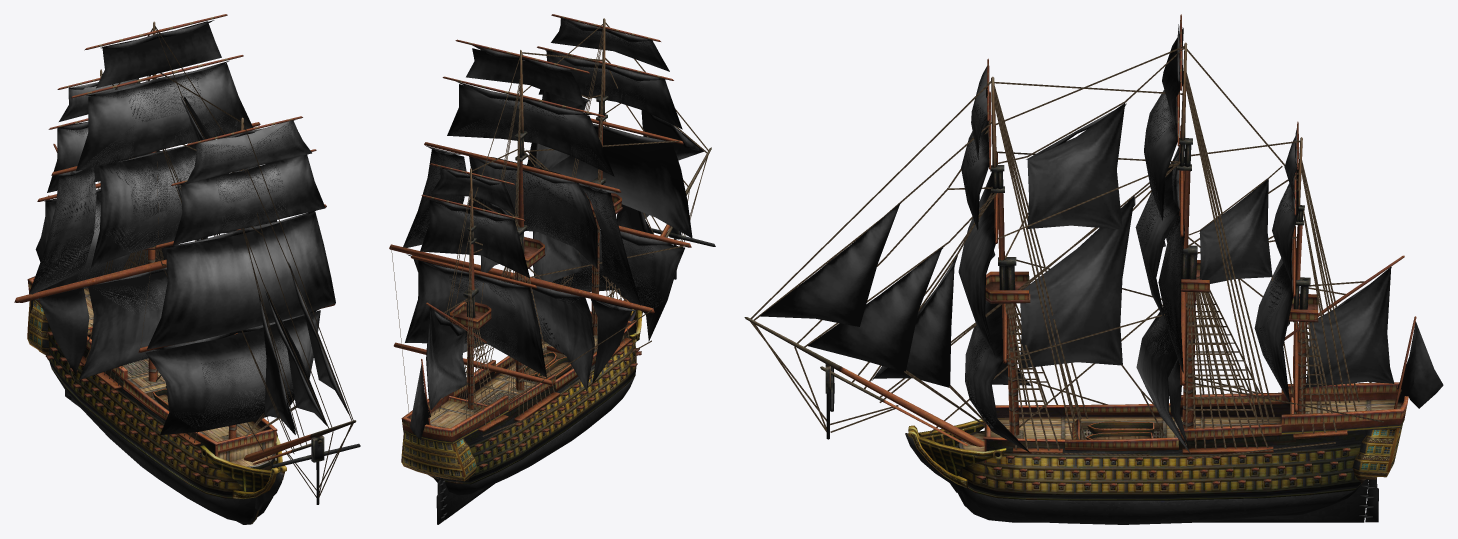
Rendered from T_Ship_12.fbx.
3 renders of one model, left to right at view 1: azimuth 30°, elevation 25°; view 2: azimuth 150°, elevation 25°; view 3: azimuth 270°, elevation 25°, orthographic. The views are drawn at different scales.
Parts seen in each view (by area): view 1: T_Ship_p1, T_Ship_12, T_Ship_12_p2, T_Ship_p1_off, T_Ship_12_p3, T_Ship_12_p4; view 2: T_Ship_p1, T_Ship_12, T_Ship_12_p2, T_Ship_p1_off, T_Ship_12_p3, T_Ship_12_p4; view 3: T_Ship_p1, T_Ship_12, T_Ship_12_p2, T_Ship_12_p3, T_Ship_12_p4, T_Ship_p1_off.
Part boxes in pixels (box(x1,y1,x2,y2)): T_Ship_p1: box(29, 21, 348, 434); T_Ship_12: box(14, 14, 360, 504); T_Ship_12_p2: box(45, 323, 276, 499); T_Ship_p1_off: box(31, 20, 348, 435); T_Ship_12_p3: box(53, 371, 272, 521); T_Ship_12_p4: box(71, 397, 283, 524); T_Ship_p1: box(402, 18, 704, 439); T_Ship_12: box(389, 14, 715, 481); T_Ship_12_p2: box(428, 329, 641, 484); T_Ship_p1_off: box(407, 18, 703, 424); T_Ship_12_p3: box(434, 376, 634, 495); T_Ship_12_p4: box(442, 309, 636, 520); T_Ship_p1: box(759, 28, 1443, 454); T_Ship_12: box(744, 14, 1416, 488); T_Ship_12_p2: box(958, 430, 1362, 500); T_Ship_12_p3: box(961, 484, 1361, 524); T_Ship_12_p4: box(905, 433, 1369, 522); T_Ship_p1_off: box(820, 24, 1415, 402).
Bounding box in the file's own units: 6.56 × 9.77 × 12.9.
2 materials, 2 textured.
